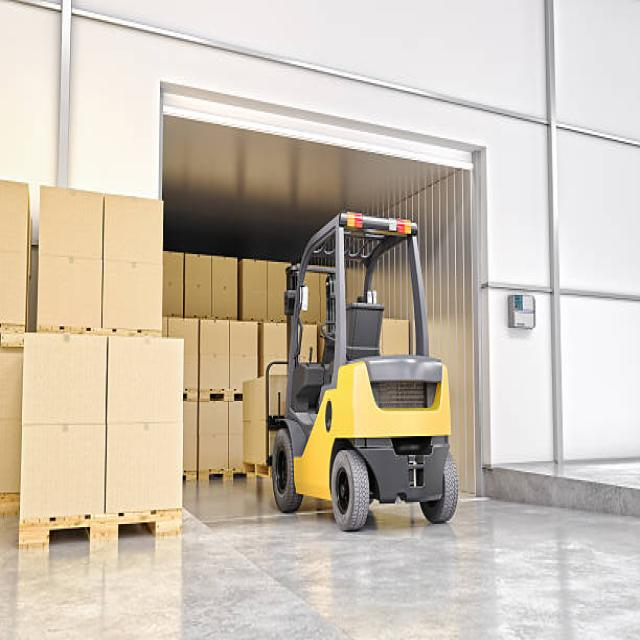Wooden-Pallets: (18, 508, 183, 552)
